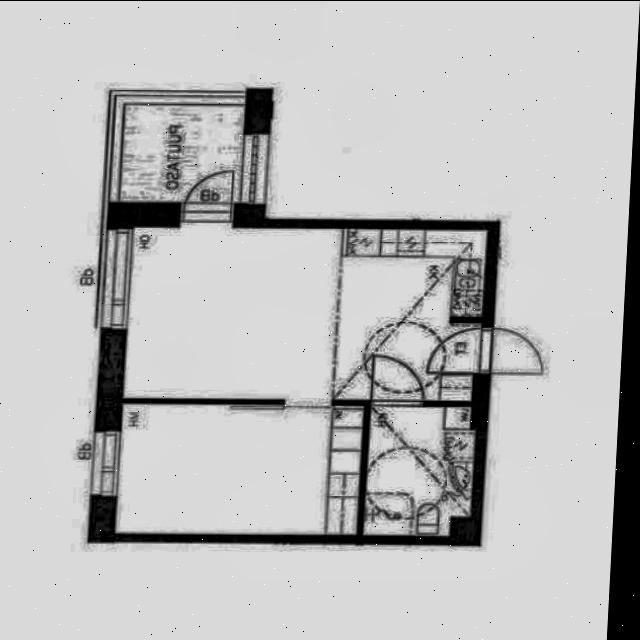room: (363, 400, 477, 540), (120, 104, 246, 202)
